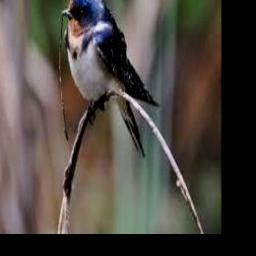Swallow: (61, 0, 160, 158)
